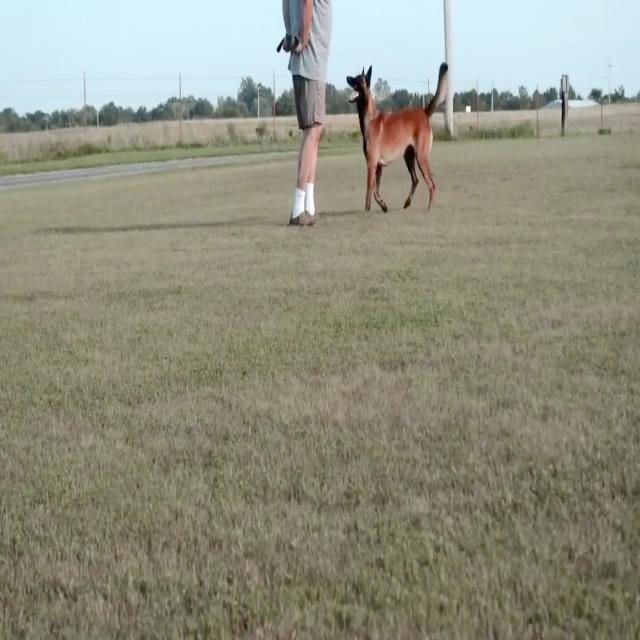Unleashed_Dog: (301, 64, 448, 213)
